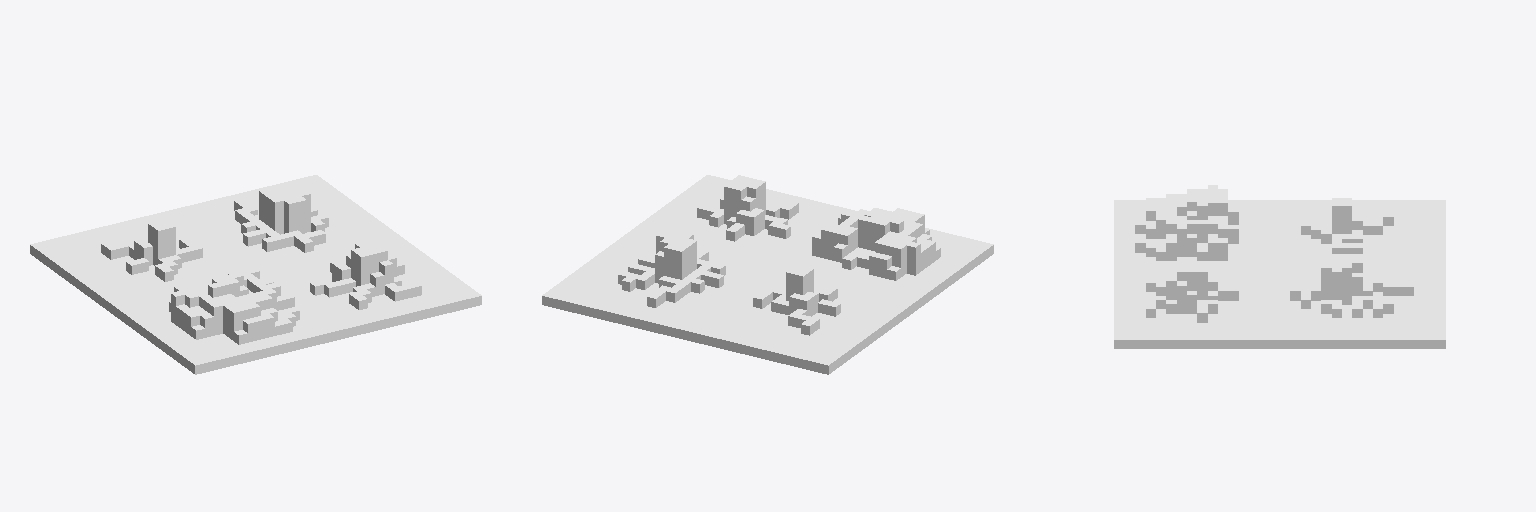
File: trees2.obj
3 renders of one model, left to right at view 1: azimuth 30°, elevation 25°; view 2: azimuth 150°, elevation 25°; view 3: azimuth 270°, elevation 25°, orthographic.
Visible parts, largest first — view 1: object 1; view 2: object 1; view 3: object 1.
Boxes of the visible parts, box(x1,y1,x2,y2) form: object 1: box(30, 175, 481, 374); object 1: box(542, 175, 993, 374); object 1: box(1114, 185, 1445, 348).
Size of the model in its own units: 3.2 by 0.5 by 3.2.